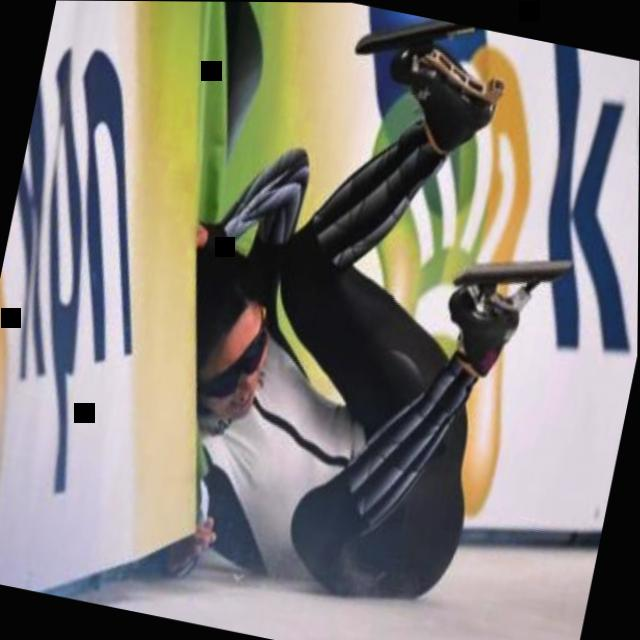Fall-Detected: (92, 1, 617, 638)
